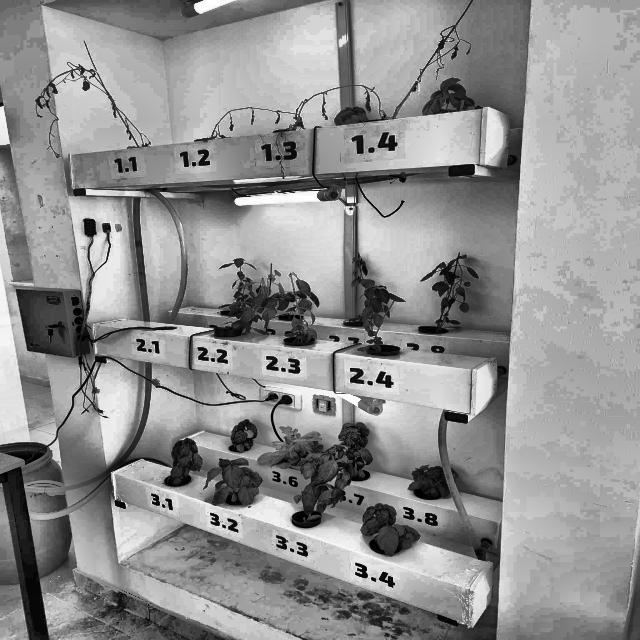plants: (32, 41, 151, 150), (389, 0, 469, 120), (417, 253, 485, 331), (216, 259, 270, 341), (293, 84, 396, 122), (293, 456, 344, 523), (260, 424, 324, 468), (362, 504, 420, 552), (207, 456, 263, 504), (362, 284, 403, 349), (282, 272, 317, 346), (210, 105, 301, 133), (349, 254, 380, 325), (421, 78, 478, 114), (338, 422, 371, 482), (172, 439, 204, 485), (408, 464, 448, 499), (230, 418, 255, 451), (335, 106, 368, 125)
